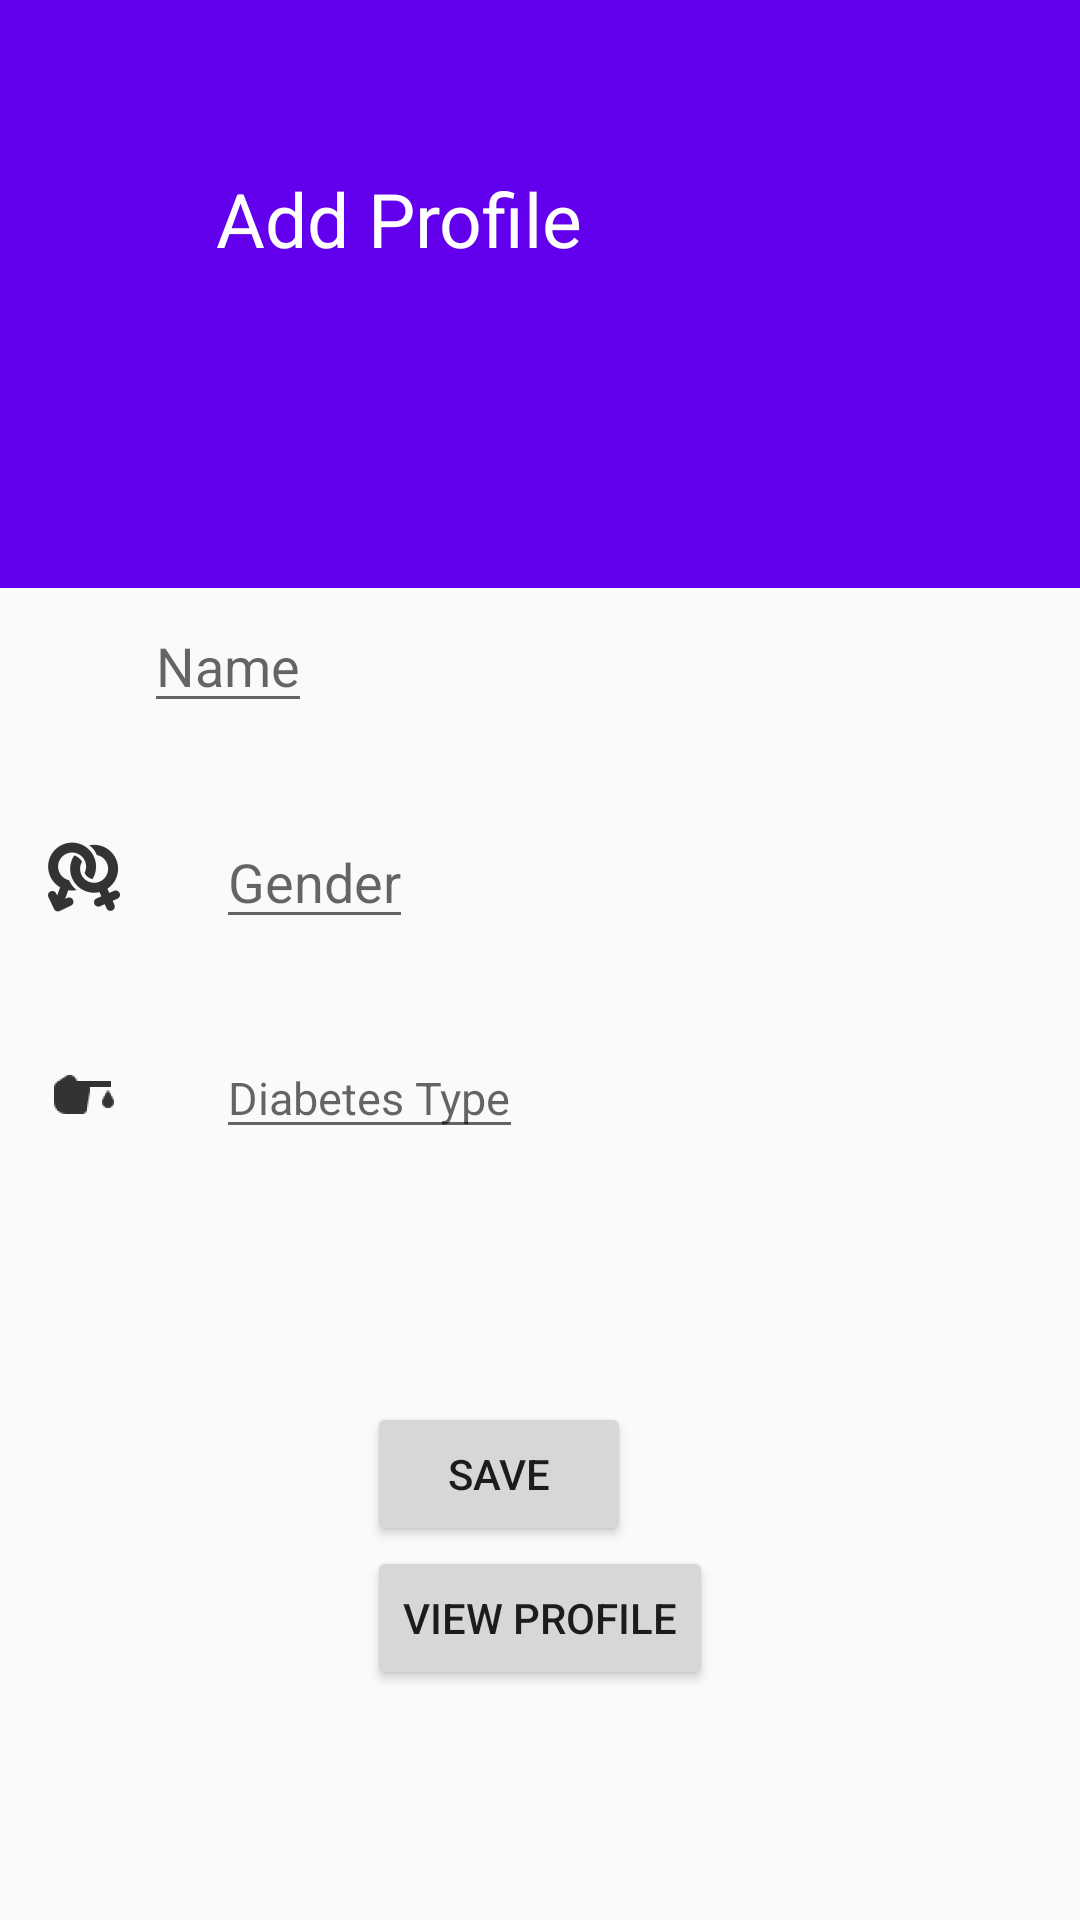

Where to tap for icons on this 1080×1920 app screen, as (x,y):
bloodsugar: (84,1094)
male female: (84,877)
